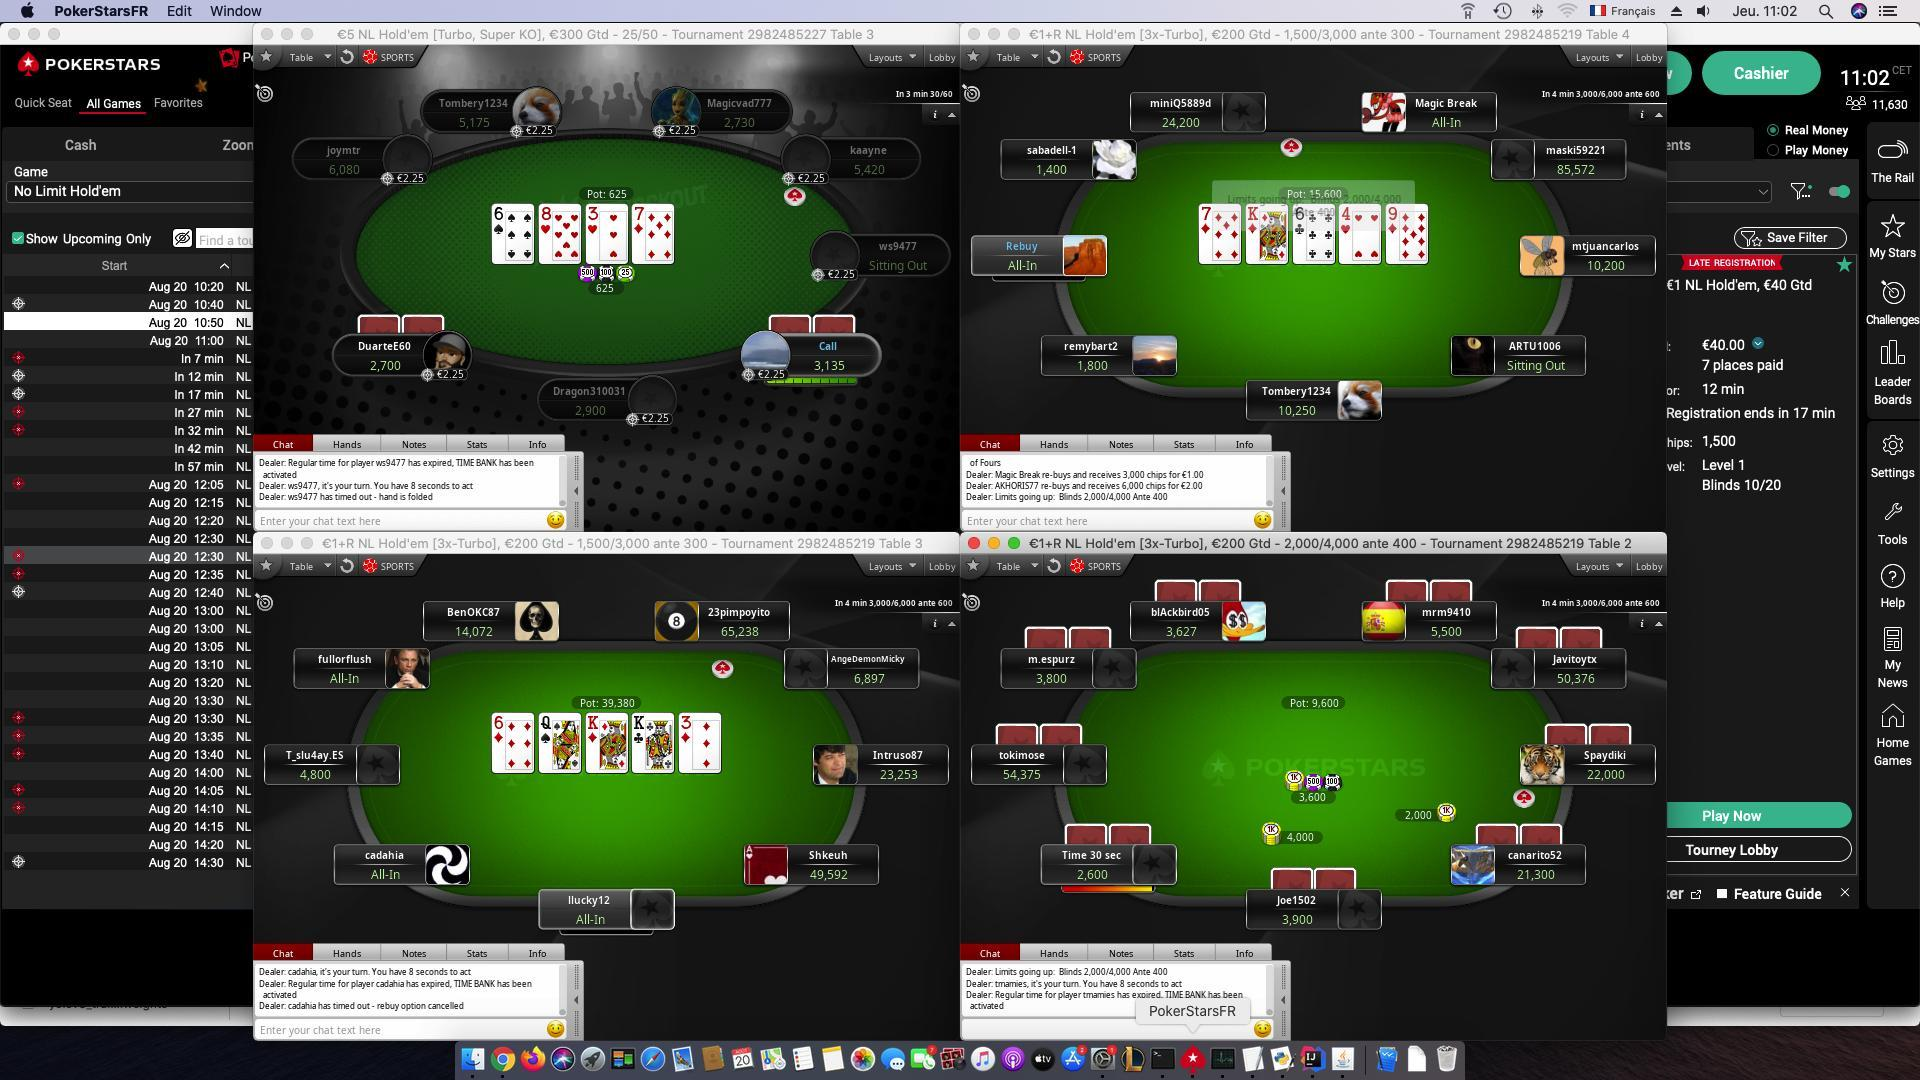3D: (676, 712, 700, 746)
3H: (582, 207, 601, 235)
4H: (1337, 203, 1357, 236)
6C: (1290, 202, 1309, 237)
6D: (489, 707, 506, 745)
6S: (489, 202, 506, 235)
7D: (629, 200, 649, 235), (1196, 202, 1215, 237)
8H: (533, 204, 553, 235)
9D: (1382, 200, 1400, 233)
KC: (630, 711, 651, 744)
KD: (583, 711, 603, 744), (1242, 200, 1261, 235)
QS: (538, 711, 556, 744)
